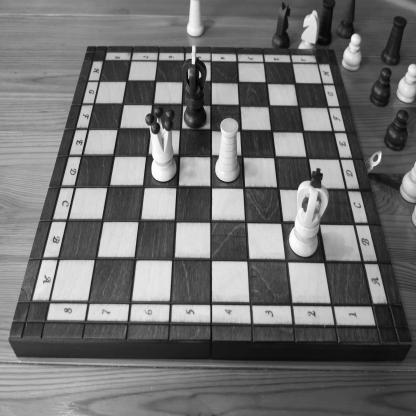black-bishop: (336, 0, 356, 39)
black-king: (181, 44, 208, 130)
black-knight: (272, 1, 290, 50)
black-pawn: (384, 108, 409, 152), (369, 66, 393, 108)
black-rook: (382, 16, 408, 66), (316, 0, 337, 47)
white-king: (288, 166, 330, 258)
white-knight: (298, 10, 320, 50)
white-pawn: (395, 64, 416, 104), (341, 33, 362, 72), (399, 161, 415, 205)
white-queen: (145, 105, 177, 183)
white-rook: (214, 117, 240, 183), (186, 0, 205, 37)
